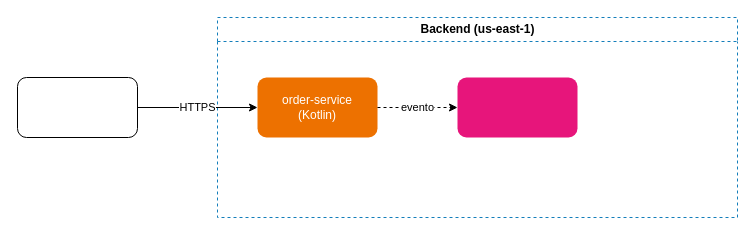
The diagram is 755 pixels wide and 235 high, and some of its shapes have lost their labels. The box of each missing label's shape, as (x1, y1, x2, y2) in pixels:
Cliente: (16, 76, 138, 138)
orders-queue (SQS): (457, 77, 577, 137)
